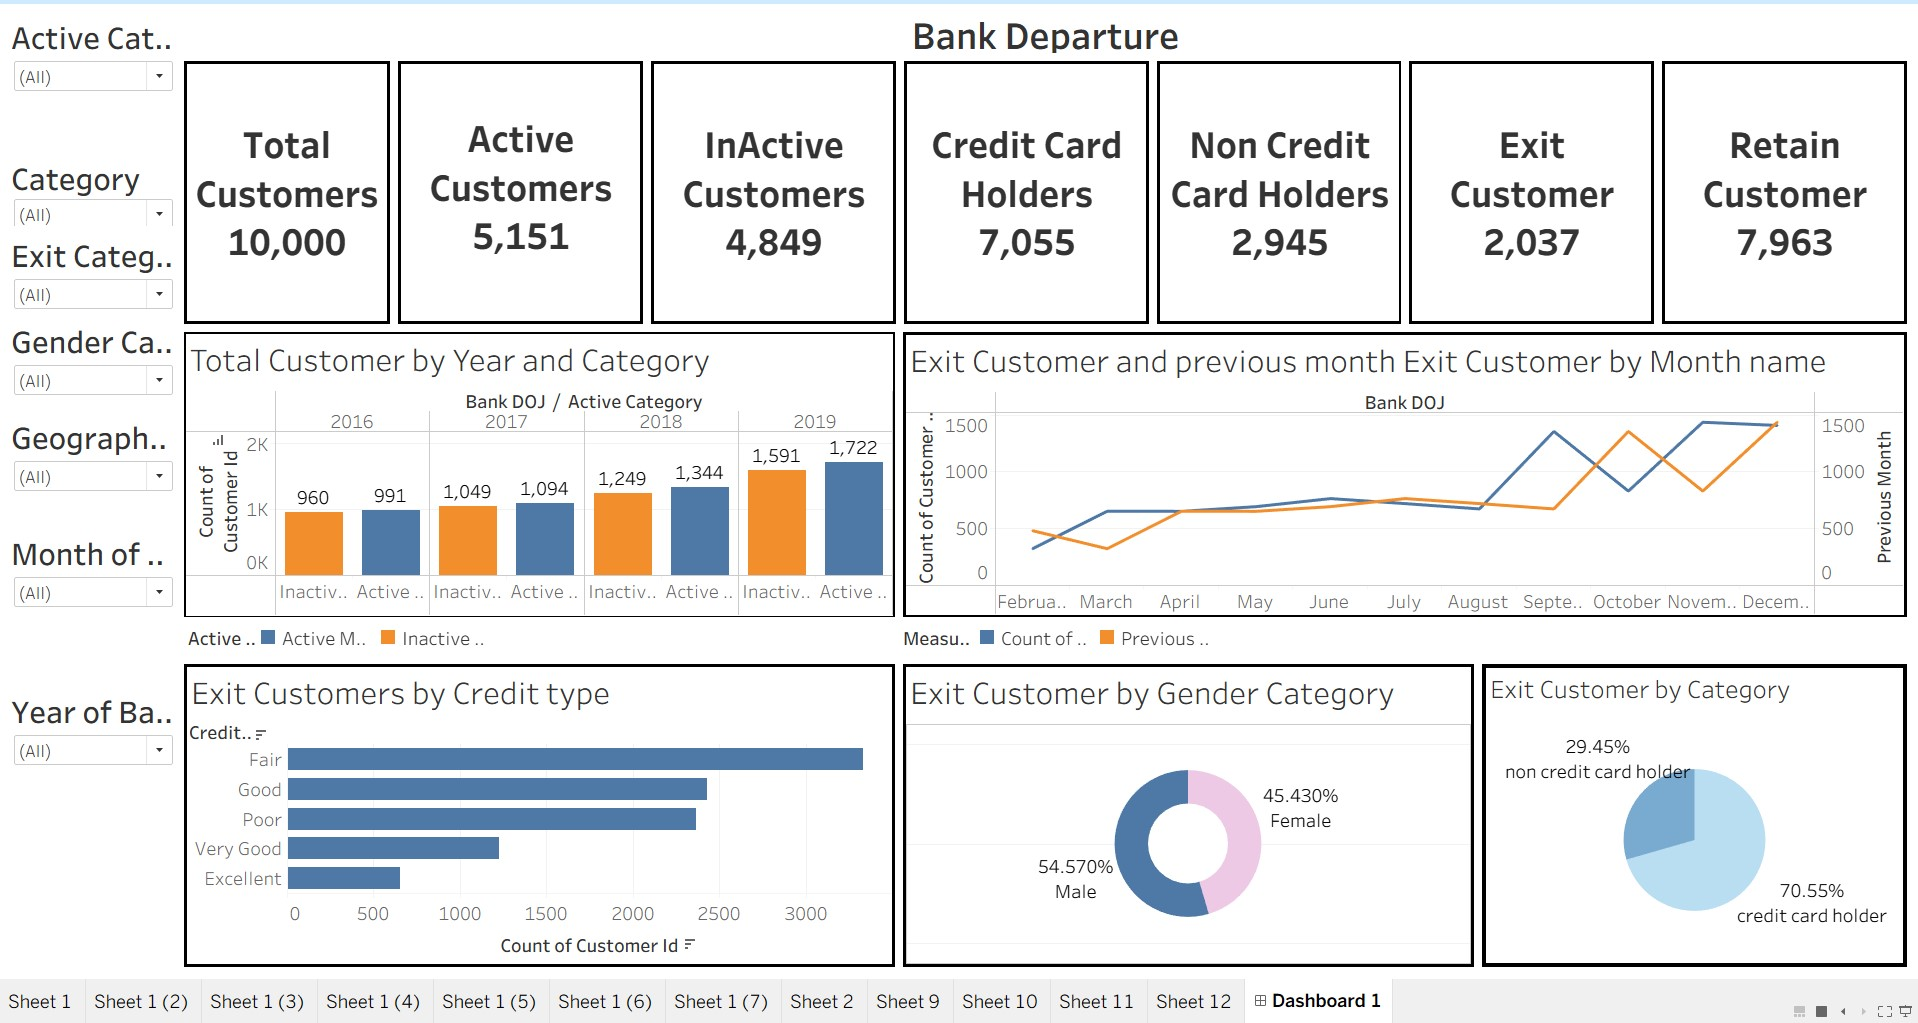

Layout of this report page (visuals, bound fields, positions):
{"tool":"tableau","page":{"name":"Dashboard 1","canvas":[1000,1000],"units":"permille","ordinal":0},"visuals":[{"type":"filter","title":"Sheet 1","param":"[federated.0po8bim0kpggi11epntje1lo0bxe].[none:ActiveCategory:nk]","box":[5,10.7,90,143.6]},{"type":"title","box":[95,10.7,900,60.3]},{"type":"worksheet","title":"Sheet 1","mark":"Automatic","box":[95,71,133.4,261.7]},{"type":"worksheet","title":"Sheet 1 (2)","mark":"Automatic","box":[228.5,71,127.8,261.7]},{"type":"worksheet","title":"Sheet 1 (3)","mark":"Automatic","box":[356.2,71,127.8,261.7]},{"type":"worksheet","title":"Sheet 1 (4)","mark":"Automatic","box":[484,71,127.8,261.7]},{"type":"worksheet","title":"Sheet 1 (5)","mark":"Automatic","box":[611.7,71,127.8,261.7]},{"type":"worksheet","title":"Sheet 1 (6)","mark":"Automatic","box":[739.5,71,127.8,261.7]},{"type":"worksheet","title":"Sheet 1 (7)","mark":"Automatic","box":[867.2,71,127.8,261.7]},{"type":"filter","title":"Sheet 1","param":"[federated.0po8bim0kpggi11epntje1lo0bxe].[none:Category:nk]","box":[5,154.3,90,103.2]},{"type":"filter","title":"Sheet 1","param":"[federated.0po8bim0kpggi11epntje1lo0bxe].[none:ExitCategory:nk]","box":[5,257.6,90,115.3]},{"type":"worksheet","title":"Sheet 2","mark":"Automatic","rows":["CustomerId"],"cols":["Bank DOJ","ActiveCategory"],"box":[95,332.7,373.8,299.8]},{"type":"worksheet","title":"Sheet 12","mark":"Automatic","rows":["CustomerId","Calculation_504121693602676742"],"cols":["Bank DOJ"],"box":[468.8,332.7,526.2,299.8]},{"type":"filter","title":"Sheet 1","param":"[federated.0po8bim0kpggi11epntje1lo0bxe].[none:GenderCategory:nk]","box":[5,372.8,90,128.7]},{"type":"filter","title":"Sheet 1","param":"[federated.0po8bim0kpggi11epntje1lo0bxe].[none:GeographyLocation:nk]","box":[5,501.5,90,155.5]},{"type":"legend","title":"Sheet 2","param":"[federated.0po8bim0kpggi11epntje1lo0bxe].[none:ActiveCategory:nk]","box":[95,632.5,373.8,39.6]},{"type":"legend","title":"Sheet 12","param":"[federated.0po8bim0kpggi11epntje1lo0bxe].[:Measure Names]","box":[468.8,632.5,526.2,39.6]},{"type":"filter","title":"Sheet 1","param":"[federated.0po8bim0kpggi11epntje1lo0bxe].[mn:Bank DOJ:ok]","box":[5,657,90,166.1]},{"type":"worksheet","title":"Sheet 9","mark":"Automatic","rows":["Calculation_504121693593071617"],"cols":["CustomerId"],"box":[95,672.1,373.8,317.2]},{"type":"worksheet","title":"Sheet 10","mark":"Pie","rows":["Calculation_504121693597790211","Calculation_504121693597884421"],"box":[468.8,672.1,301.1,317.2]},{"type":"worksheet","title":"Sheet 11","mark":"Pie","box":[770,672.1,225.1,317.2]},{"type":"filter","title":"Sheet 1","param":"[federated.0po8bim0kpggi11epntje1lo0bxe].[yr:Bank DOJ:ok]","box":[5,823.1,90,166.1]}]}

Visuals, with their boxes on the dashboard's canvas, which has no fixed pixel size, in thousandths of its width and height (x1, y1, x2, y2). These are canvas units, not pixel positions in the 1918x1023 screenshot, which may show the page scaled, cropped or inside an application window:
"Sheet 1" filter: <bbox>5, 11, 95, 154</bbox>
title: <bbox>95, 11, 995, 71</bbox>
"Sheet 1" worksheet: <bbox>95, 71, 228, 333</bbox>
"Sheet 1 (2)" worksheet: <bbox>228, 71, 356, 333</bbox>
"Sheet 1 (3)" worksheet: <bbox>356, 71, 484, 333</bbox>
"Sheet 1 (4)" worksheet: <bbox>484, 71, 612, 333</bbox>
"Sheet 1 (5)" worksheet: <bbox>612, 71, 740, 333</bbox>
"Sheet 1 (6)" worksheet: <bbox>740, 71, 867, 333</bbox>
"Sheet 1 (7)" worksheet: <bbox>867, 71, 995, 333</bbox>
"Sheet 1" filter: <bbox>5, 154, 95, 258</bbox>
"Sheet 1" filter: <bbox>5, 258, 95, 373</bbox>
"Sheet 2" worksheet: <bbox>95, 333, 469, 632</bbox>
"Sheet 12" worksheet: <bbox>469, 333, 995, 632</bbox>
"Sheet 1" filter: <bbox>5, 373, 95, 502</bbox>
"Sheet 1" filter: <bbox>5, 502, 95, 657</bbox>
"Sheet 2" legend: <bbox>95, 632, 469, 672</bbox>
"Sheet 12" legend: <bbox>469, 632, 995, 672</bbox>
"Sheet 1" filter: <bbox>5, 657, 95, 823</bbox>
"Sheet 9" worksheet: <bbox>95, 672, 469, 989</bbox>
"Sheet 10" worksheet (Pie marks): <bbox>469, 672, 770, 989</bbox>
"Sheet 11" worksheet (Pie marks): <bbox>770, 672, 995, 989</bbox>
"Sheet 1" filter: <bbox>5, 823, 95, 989</bbox>
